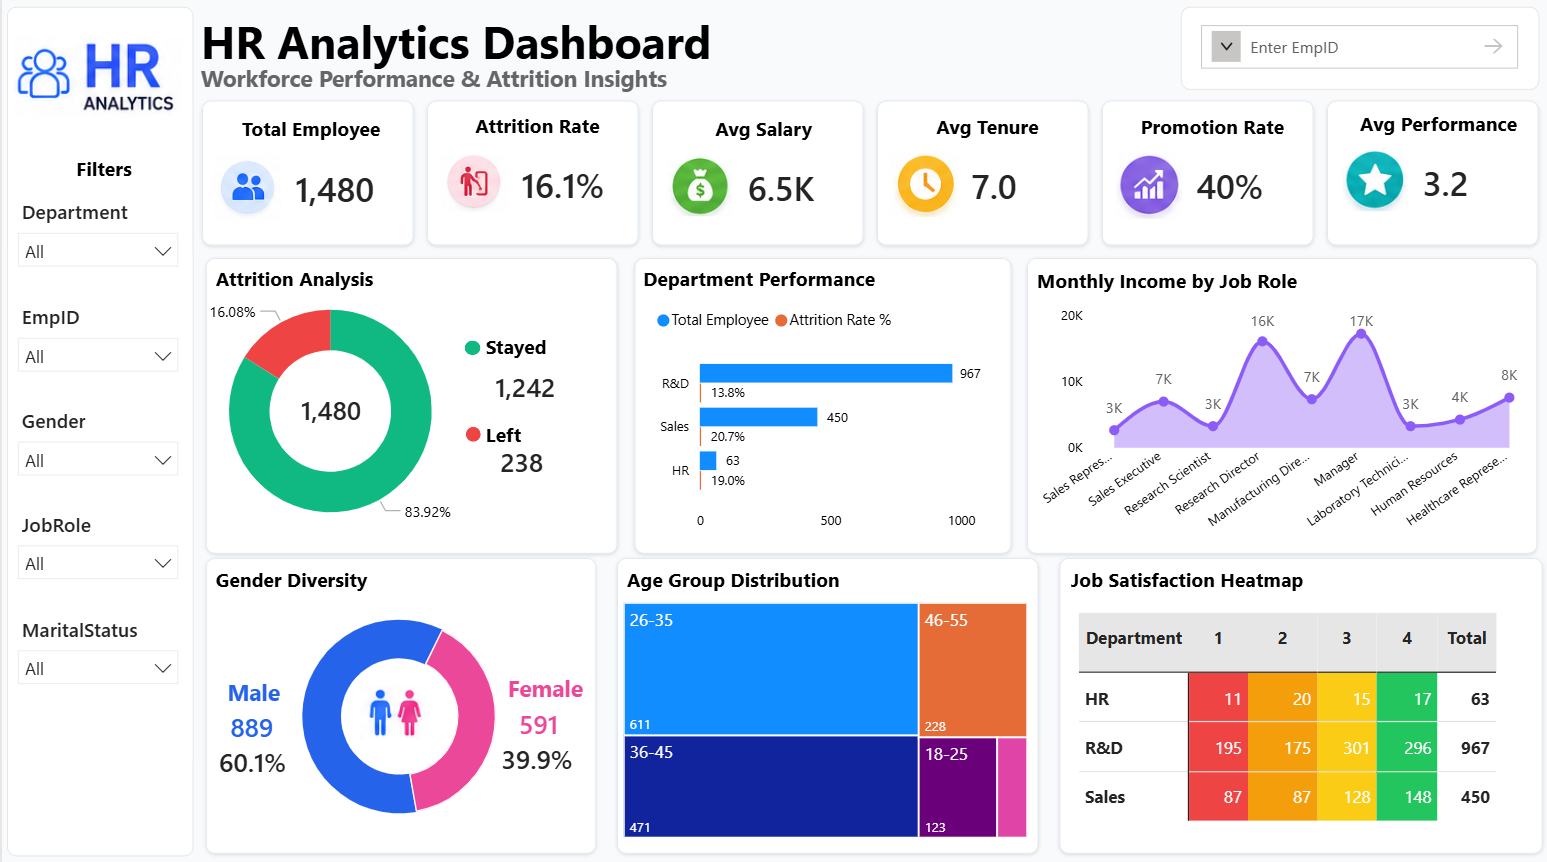

What the dashboard file says about the page in this screenshot:
{"tool":"powerbi","page":{"name":"Page 1","canvas":[1280,720],"ordinal":0},"visuals":[{"type":"shape","box":[165,93.3,175,120],"z":0},{"type":"shape","box":[353,93.3,175,120],"z":1000},{"type":"shape","box":[541,93.3,175,120],"z":2000},{"type":"shape","box":[917,93.3,175,120],"z":3000},{"type":"shape","box":[729,93.3,175,120],"z":4000},{"type":"shape","box":[1105,93.3,163.3,120],"z":5000},{"type":"textbox","box":[165,6.7,435,61.7],"z":6000},{"type":"textbox","box":[168.3,56.7,435,38.3],"z":7000},{"type":"textbox","box":[183.8,95.4,136.9,32.3],"z":8000},{"type":"textbox","box":[371.2,95,137.5,32.5],"z":9000},{"type":"textbox","box":[560,93.8,137.5,32.5],"z":10000},{"type":"textbox","box":[747.5,95,137.5,32.5],"z":11000},{"type":"textbox","box":[928.8,95,156.2,32.5],"z":12000},{"type":"textbox","box":[1111.4,95.7,157.1,31.4],"z":13000},{"type":"cardVisual","fields":{"Data":["Measure.Total Employee"]},"box":[201.7,123.3,136.7,71.7],"z":14000},{"type":"cardVisual","fields":{"Data":["Measure.Attrition Rate%"]},"box":[385,123.3,171.7,71.7],"z":15000},{"type":"cardVisual","fields":{"Data":["Avg(HR_Analytics.MonthlyIncome)"]},"box":[573.3,123.3,143.3,71.7],"z":16000},{"type":"cardVisual","fields":{"Data":["Avg(HR_Analytics.YearsAtCompany)"]},"box":[778.3,123.3,125,71.7],"z":17000},{"type":"cardVisual","fields":{"Data":["Measure.Promotion Rate%"]},"box":[961.7,123.3,163.3,71.7],"z":18000},{"type":"cardVisual","fields":{"Data":["Avg(HR_Analytics.PerformanceRating)"]},"box":[1143.3,123.3,125,71.7],"z":19000},{"type":"image","box":[171.2,138.8,58.8,45],"z":20000},{"type":"image","box":[355,141.7,58.3,45],"z":21000},{"type":"image","box":[545,138.8,58.8,45],"z":22000},{"type":"image","box":[747.5,138.8,58.8,45],"z":23000},{"type":"image","box":[917.5,138.8,58.8,45],"z":24000},{"type":"image","box":[1111.2,138.8,58.8,45],"z":25000},{"type":"shape","box":[167.7,224.8,340,246],"z":26000},{"type":"donutChart","fields":{"Category":["HR_Analytics.Attrition"],"Y":["Measure.Total Employee"]},"box":[113,237.5,350,260],"z":27000},{"type":"textbox","box":[171.1,225.1,135.7,34.3],"z":28000},{"type":"shape","box":[12.2,7.8,153.3,703.3],"z":29000},{"type":"textbox","box":[418.6,285.6,61.1,29.5],"z":29000,"group":"g1"},{"type":"cardVisual","fields":{"Data":["Measure.Total Employee"]},"box":[377.9,299.9,124.5,64.5],"z":30000},{"type":"textbox","box":[418.5,360.3,44.4,30.6],"z":30000,"group":"g2"},{"type":"cardVisual","fields":{"Data":["Measure.Total Employee"]},"box":[394.2,375.5,100.9,58.2],"z":31000},{"type":"shape","box":[521.4,222.9,340,247.1],"z":32000},{"type":"shape","box":[412.6,294.4,12,12],"z":32000,"group":"g1"},{"type":"group","id":"g1","title":"Group 1","box":[412.6,285.6,67.1,29.5],"z":33000},{"type":"shape","box":[412.4,369.2,12.2,12.2],"z":33000,"group":"g2"},{"type":"group","id":"g2","title":"Group 2","box":[412.4,360.3,50.6,30.6],"z":34000},{"type":"clusteredBarChart","fields":{"Category":["HR_Analytics.Department"],"Y":["Measure.Total Employee","Measure.Attrition Rate%"]},"box":[541.4,242.9,320,227.1],"z":35000},{"type":"textbox","box":[533.1,225.4,183.1,34.6],"z":36000},{"type":"shape","box":[873.3,225,395,246.7],"z":37000},{"type":"textbox","box":[887.1,227.1,201.4,34.3],"z":38000},{"type":"areaChart","fields":{"Category":["HR_Analytics.JobRole"],"Y":["Avg(HR_Analytics.MonthlyIncome)"]},"box":[887.1,261.4,381.4,208.6],"z":39000},{"type":"shape","box":[171.4,482.9,340,227.1],"z":40000},{"type":"donutChart","fields":{"Y":["Measure.Total Employee"],"Category":["HR_Analytics.Gender"]},"box":[185,496.7,308.3,213.3],"z":41000},{"type":"textbox","box":[184.3,482.9,135.7,34.3],"z":42000},{"type":"image","box":[298.3,570,81.7,66.7],"z":43000},{"type":"textbox","box":[185,540,55,32.5],"z":44000},{"type":"textbox","box":[427.5,540,73.8,32.5],"z":45000},{"type":"cardVisual","fields":{"Data":["Measure.Total Employee"]},"box":[135,553.8,121.2,63.8],"z":46000},{"type":"cardVisual","fields":{"Data":["Measure.Total Employee"]},"box":[402.5,555,108.8,63.8],"z":47000},{"type":"cardVisual","fields":{"Data":["Measure.Male%"]},"box":[158,586,140,64],"z":48000},{"type":"cardVisual","fields":{"Data":["Measure.Female%"]},"box":[413.3,583.3,126.7,65],"z":49000},{"type":"shape","box":[521.2,482.5,340,227.5],"z":50000},{"type":"textbox","box":[532.5,482.5,165,35],"z":51000},{"type":"treemap","fields":{"Group":["HR_Analytics.AgeGroup"],"Values":["Measure.Total Employee"]},"box":[532.5,525,328.8,185],"z":52000},{"type":"shape","box":[873.3,483.3,395,226.7],"z":53000},{"type":"textbox","box":[886.2,483.8,185,35],"z":54000},{"type":"pivotTable","fields":{"Rows":["HR_Analytics.Department"],"Columns":["HR_Analytics.JobSatisfaction"],"Values":["Measure.Total Employee"]},"box":[884.3,518.6,395.7,191.4],"z":55000},{"type":"image","box":[25,25,126.7,61.7],"z":56000},{"type":"textbox","box":[20,105,136.7,33.3],"z":57000},{"type":"slicer","fields":{"Values":["HR_Analytics.Department"]},"box":[19.3,154.4,135.6,66.7],"z":58000},{"type":"slicer","fields":{"Values":["HR_Analytics.EmpID"]},"box":[19.2,236.6,136,67],"z":59000},{"type":"slicer","fields":{"Values":["HR_Analytics.JobRole"]},"box":[19.1,319.1,136,67],"z":60000},{"type":"slicer","fields":{"Values":["HR_Analytics.Gender"]},"box":[18.9,401.5,136,67],"z":61000},{"type":"slicer","fields":{"Values":["HR_Analytics.SalarySlab"]},"box":[18.8,484,136,67],"z":62000},{"type":"textSlicer","fields":{"Values":["HR_Analytics.EmpID"]},"box":[1048.3,15,220,41.7],"z":62001}]}

Visuals, with their boxes in screenshot pixels (x1, y1, x2, y2), scaled from the page's 1280x720 canvas onto the 1547x862 screenshot:
shape: [left=199, top=112, right=411, bottom=255]
shape: [left=427, top=112, right=638, bottom=255]
shape: [left=654, top=112, right=865, bottom=255]
shape: [left=1108, top=112, right=1320, bottom=255]
shape: [left=881, top=112, right=1093, bottom=255]
shape: [left=1335, top=112, right=1533, bottom=255]
textbox: [left=199, top=8, right=725, bottom=82]
textbox: [left=203, top=68, right=729, bottom=114]
textbox: [left=222, top=114, right=388, bottom=153]
textbox: [left=449, top=114, right=615, bottom=153]
textbox: [left=677, top=112, right=843, bottom=151]
textbox: [left=903, top=114, right=1070, bottom=153]
textbox: [left=1123, top=114, right=1311, bottom=153]
textbox: [left=1343, top=115, right=1533, bottom=152]
cardVisual - Measure.Total Employee: [left=244, top=148, right=409, bottom=233]
cardVisual - Measure.Attrition Rate%: [left=465, top=148, right=673, bottom=233]
cardVisual - Avg(HR_Analytics.MonthlyIncome): [left=693, top=148, right=866, bottom=233]
cardVisual - Avg(HR_Analytics.YearsAtCompany): [left=941, top=148, right=1092, bottom=233]
cardVisual - Measure.Promotion Rate%: [left=1162, top=148, right=1360, bottom=233]
cardVisual - Avg(HR_Analytics.PerformanceRating): [left=1382, top=148, right=1533, bottom=233]
image: [left=207, top=166, right=278, bottom=220]
image: [left=429, top=170, right=500, bottom=224]
image: [left=659, top=166, right=730, bottom=220]
image: [left=903, top=166, right=974, bottom=220]
image: [left=1109, top=166, right=1180, bottom=220]
image: [left=1343, top=166, right=1414, bottom=220]
shape: [left=203, top=269, right=614, bottom=564]
donutChart - HR_Analytics.Attrition x Measure.Total Employee: [left=137, top=284, right=560, bottom=596]
textbox: [left=207, top=269, right=371, bottom=311]
shape: [left=15, top=9, right=200, bottom=851]
textbox: [left=506, top=342, right=580, bottom=377]
cardVisual - Measure.Total Employee: [left=457, top=359, right=607, bottom=436]
textbox: [left=506, top=431, right=559, bottom=468]
cardVisual - Measure.Total Employee: [left=476, top=450, right=598, bottom=519]
shape: [left=630, top=267, right=1041, bottom=563]
shape: [left=499, top=352, right=513, bottom=367]
"Group 1" group: [left=499, top=342, right=580, bottom=377]
shape: [left=498, top=442, right=513, bottom=457]
"Group 2" group: [left=498, top=431, right=560, bottom=468]
clusteredBarChart - HR_Analytics.Department x Measure.Total Employee: [left=654, top=291, right=1041, bottom=563]
textbox: [left=644, top=270, right=866, bottom=311]
shape: [left=1055, top=269, right=1533, bottom=565]
textbox: [left=1072, top=272, right=1316, bottom=313]
areaChart - HR_Analytics.JobRole x Avg(HR_Analytics.MonthlyIncome): [left=1072, top=313, right=1533, bottom=563]
shape: [left=207, top=578, right=618, bottom=850]
donutChart - Measure.Total Employee x HR_Analytics.Gender: [left=224, top=595, right=596, bottom=850]
textbox: [left=223, top=578, right=387, bottom=619]
image: [left=361, top=682, right=459, bottom=762]
textbox: [left=224, top=646, right=290, bottom=685]
textbox: [left=517, top=646, right=606, bottom=685]
cardVisual - Measure.Total Employee: [left=163, top=663, right=310, bottom=739]
cardVisual - Measure.Total Employee: [left=486, top=664, right=618, bottom=741]
cardVisual - Measure.Male%: [left=191, top=702, right=360, bottom=778]
cardVisual - Measure.Female%: [left=500, top=698, right=653, bottom=776]
shape: [left=630, top=578, right=1041, bottom=850]
textbox: [left=644, top=578, right=843, bottom=620]
treemap - HR_Analytics.AgeGroup x Measure.Total Employee: [left=644, top=629, right=1041, bottom=850]
shape: [left=1055, top=579, right=1533, bottom=850]
textbox: [left=1071, top=579, right=1295, bottom=621]
pivotTable - HR_Analytics.Department x HR_Analytics.JobSatisfaction: [left=1069, top=621, right=1546, bottom=850]
image: [left=30, top=30, right=183, bottom=104]
textbox: [left=24, top=126, right=189, bottom=166]
slicer - HR_Analytics.Department: [left=23, top=185, right=187, bottom=265]
slicer - HR_Analytics.EmpID: [left=23, top=283, right=188, bottom=363]
slicer - HR_Analytics.JobRole: [left=23, top=382, right=187, bottom=462]
slicer - HR_Analytics.Gender: [left=23, top=481, right=187, bottom=561]
slicer - HR_Analytics.SalarySlab: [left=23, top=579, right=187, bottom=660]
textSlicer - HR_Analytics.EmpID: [left=1267, top=18, right=1533, bottom=68]
